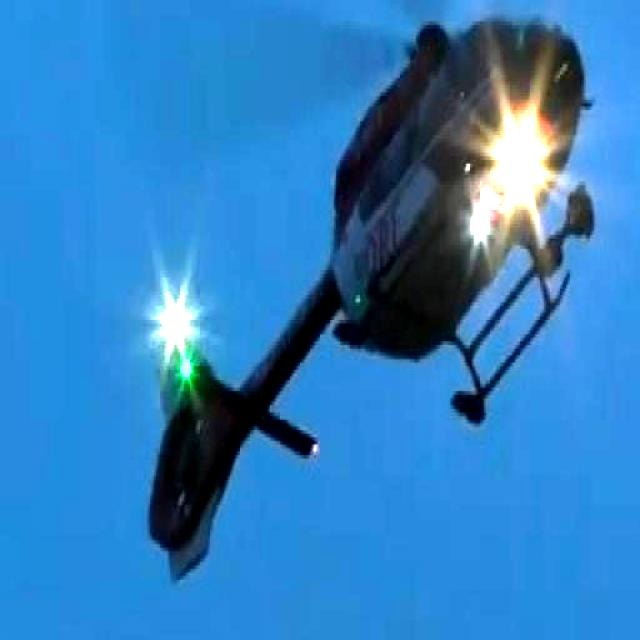drone: (141, 0, 595, 578)
